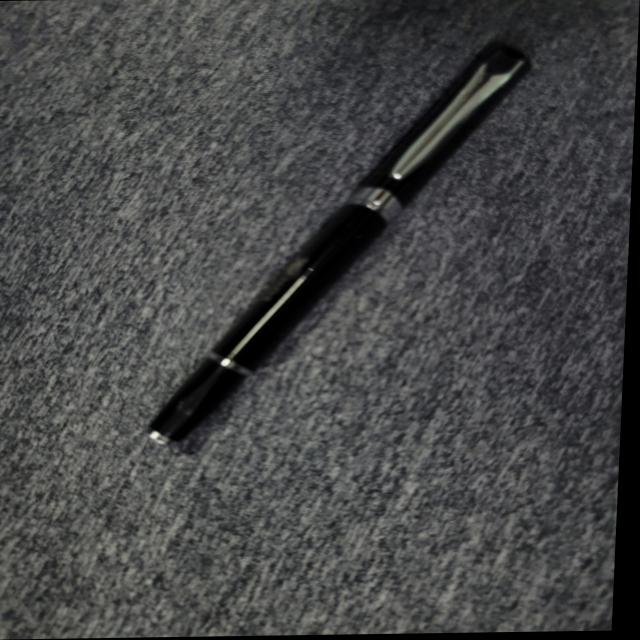caneta: (126, 32, 559, 463)
